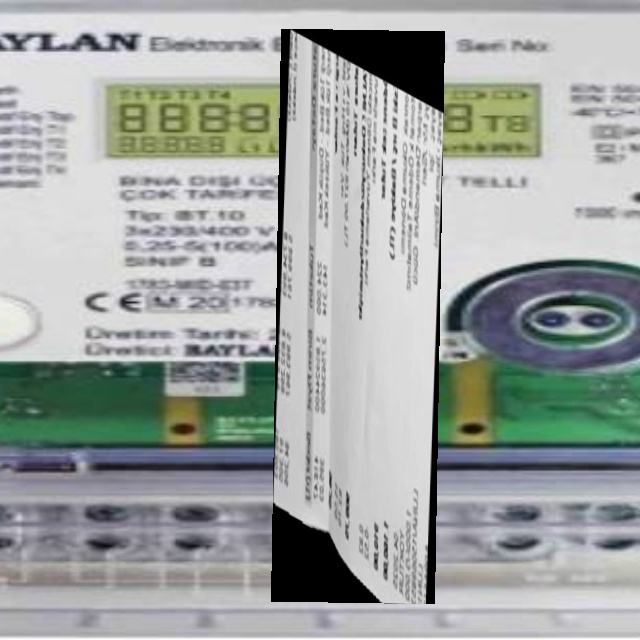electricity-bill: (271, 28, 445, 604)
